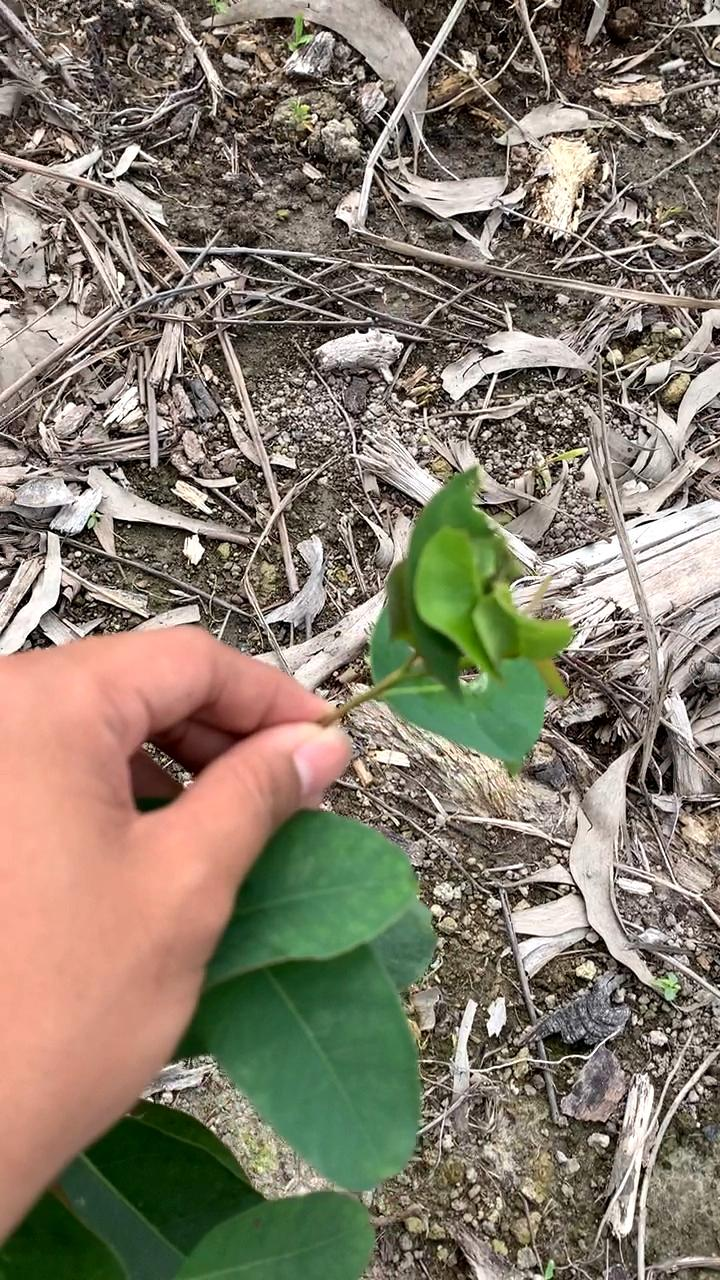Leaf Roller - Leaf: (366, 480, 583, 773)
